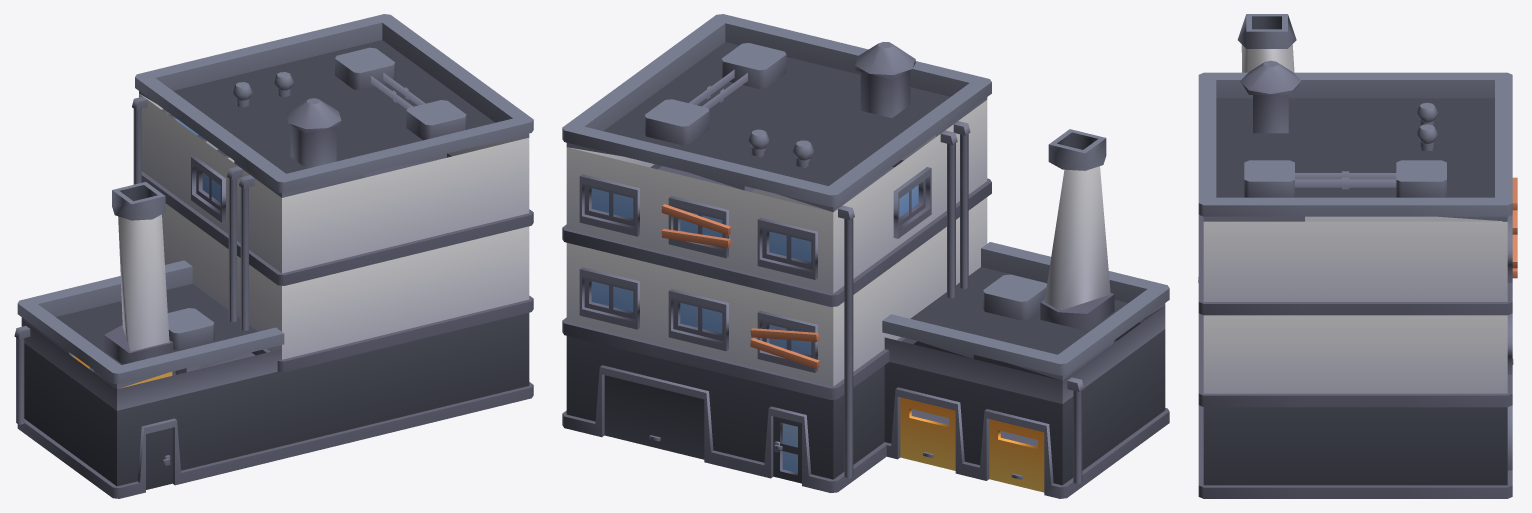
File: building-b.lod.glb
3 renders of one model, left to right at view 1: azimuth 30°, elevation 25°; view 2: azimuth 150°, elevation 25°; view 3: azimuth 270°, elevation 25°, orthographic. The views are drawn at different scales.
Visible parts, largest first — view 1: building-b; view 2: building-b; view 3: building-b.
Boxes of the visible parts, x1,y1,x2,y2 form: building-b: (14, 14, 533, 498); building-b: (562, 14, 1169, 498); building-b: (1198, 14, 1517, 498).
Size of the model in its own units: 2.08 by 1.47 by 1.26.
1 material, 1 textured.
